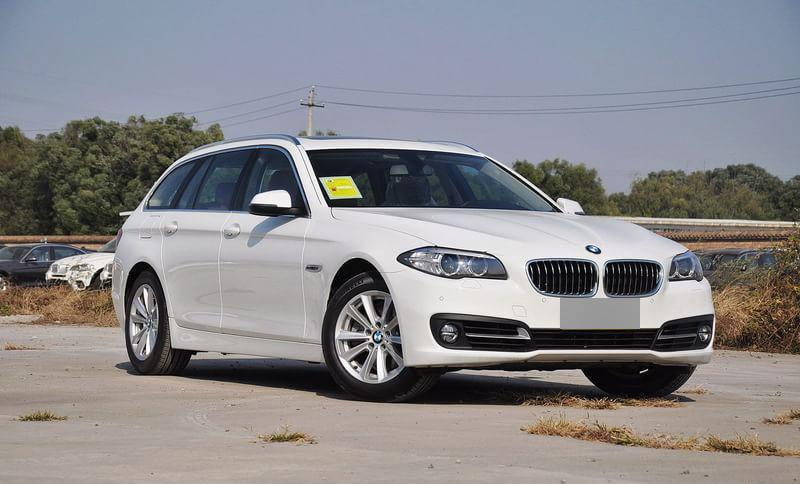Wagon: (109, 132, 717, 403)
